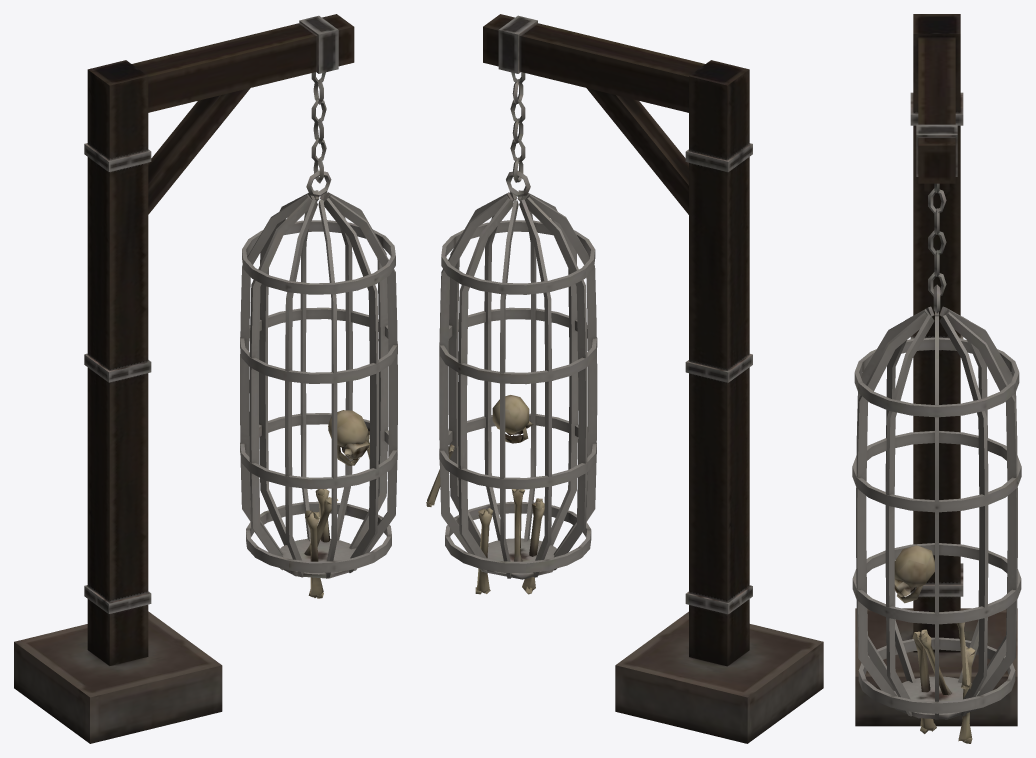
Rendered from hellforge_cage.glb.
3 renders of one model, left to right at view 1: azimuth 30°, elevation 25°; view 2: azimuth 150°, elevation 25°; view 3: azimuth 270°, elevation 25°, orthographic. The views are drawn at different scales.
Visible parts, largest first — view 1: hellforge_cage; view 2: hellforge_cage; view 3: hellforge_cage.
Boxes of the visible parts, x1,y1,x2,y2 form: hellforge_cage: (14, 14, 397, 743); hellforge_cage: (426, 14, 823, 743); hellforge_cage: (852, 14, 1021, 743).
Bounding box in the file's own units: 1.71 × 2.98 × 0.6839.
Materials: 1 (1 with a texture image).
